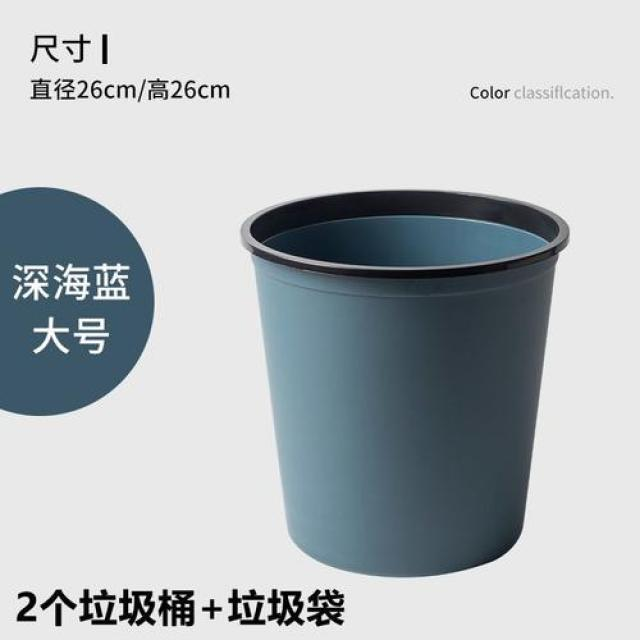dustbin: (234, 181, 576, 580)
